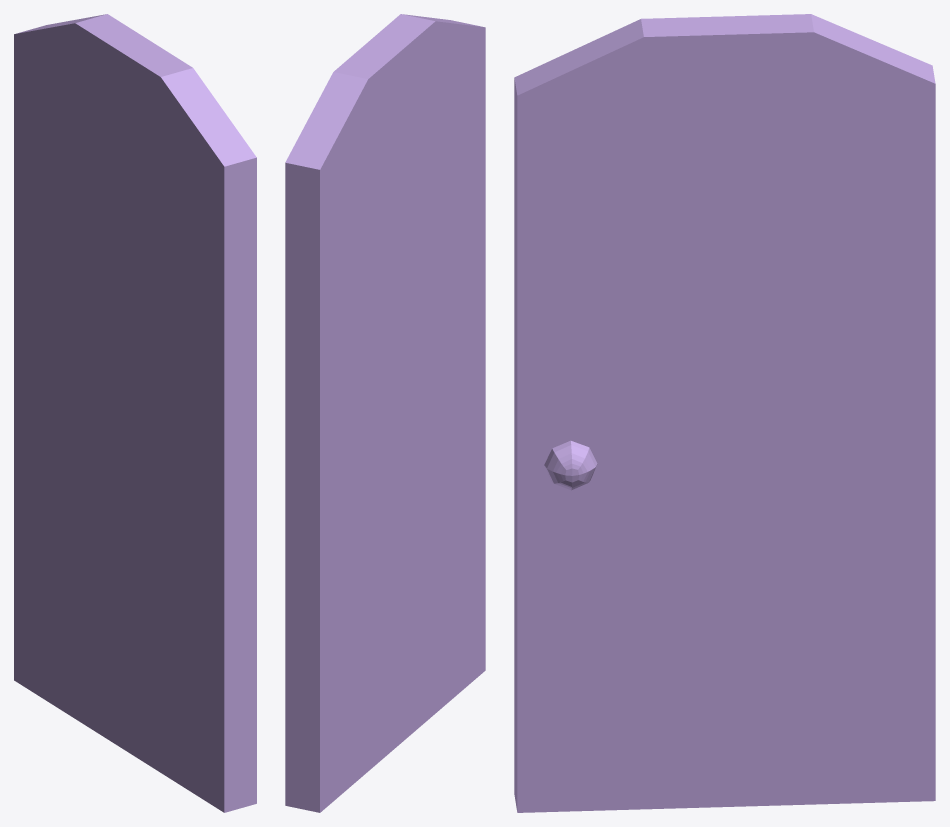
The model's file is Backyard_Door.fbx.
3 renders of one model, left to right at view 1: azimuth 30°, elevation 25°; view 2: azimuth 150°, elevation 25°; view 3: azimuth 270°, elevation 25°, orthographic. The views are drawn at different scales.
Visible parts, largest first — view 1: Backyard_Door; view 2: Backyard_Door; view 3: Backyard_Door.
Boxes of the visible parts, x1,y1,x2,y2 form: Backyard_Door: [14, 14, 256, 812]; Backyard_Door: [285, 14, 485, 812]; Backyard_Door: [514, 14, 935, 812].
Size of the model in its own units: 27.54 by 261 by 129.
